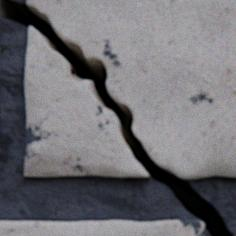brick: (0, 220, 204, 235)
broken_brick: (27, 0, 235, 179), (25, 27, 149, 177)
crack: (0, 0, 233, 235)
